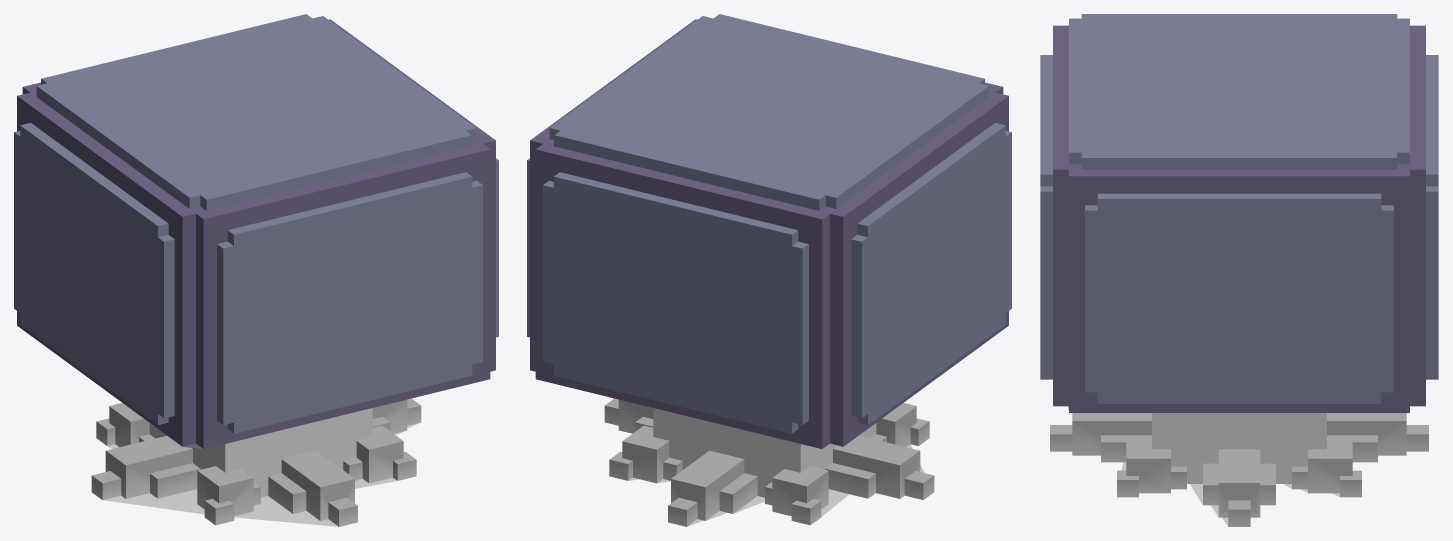
The model's file is Model Tree 01 Blue n white.fbx.
The picture shows the model from 3 angles, left to right: view 1: azimuth 30°, elevation 25°; view 2: azimuth 150°, elevation 25°; view 3: azimuth 270°, elevation 25°; orthographic projection. The views are drawn at different scales.
Parts seen in each view (by area): view 1: Tree 01 Blue n white CLEANED; view 2: Tree 01 Blue n white CLEANED; view 3: Tree 01 Blue n white CLEANED.
Part boxes in pixels (x1,y1,x2,y2): Tree 01 Blue n white CLEANED: [14, 14, 498, 526]; Tree 01 Blue n white CLEANED: [527, 14, 1011, 526]; Tree 01 Blue n white CLEANED: [1040, 14, 1438, 526].
Bounding box in the file's own units: 1250 × 1250 × 1250.
